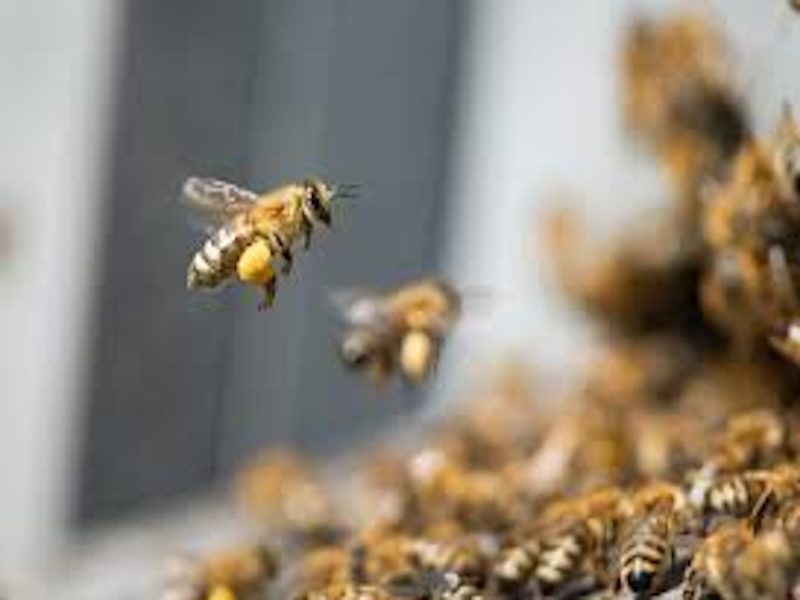abeja: (168, 141, 358, 323)
